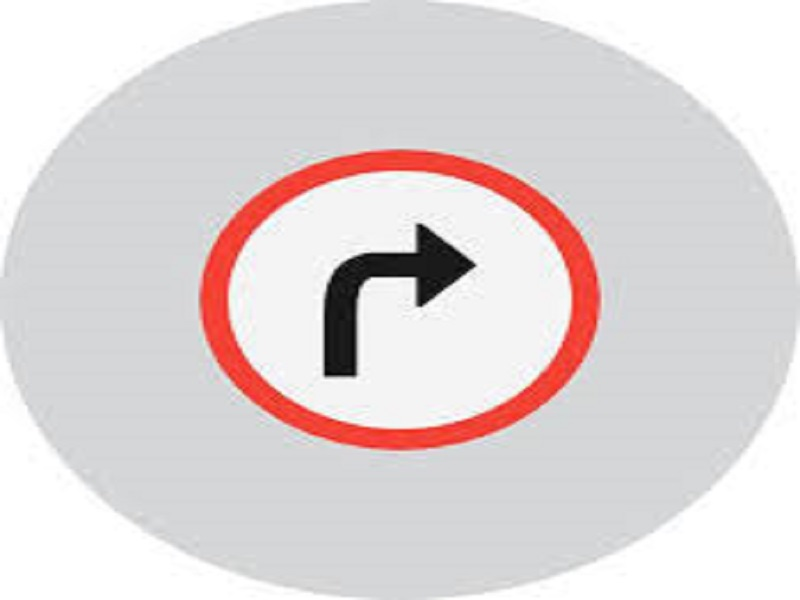sagaDon: (189, 137, 614, 452)
